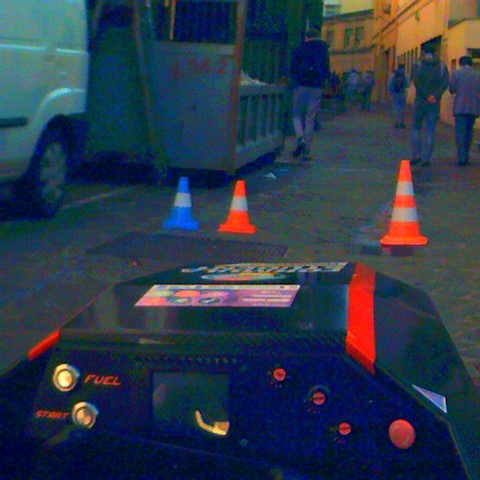cone: (160, 178, 199, 231)
